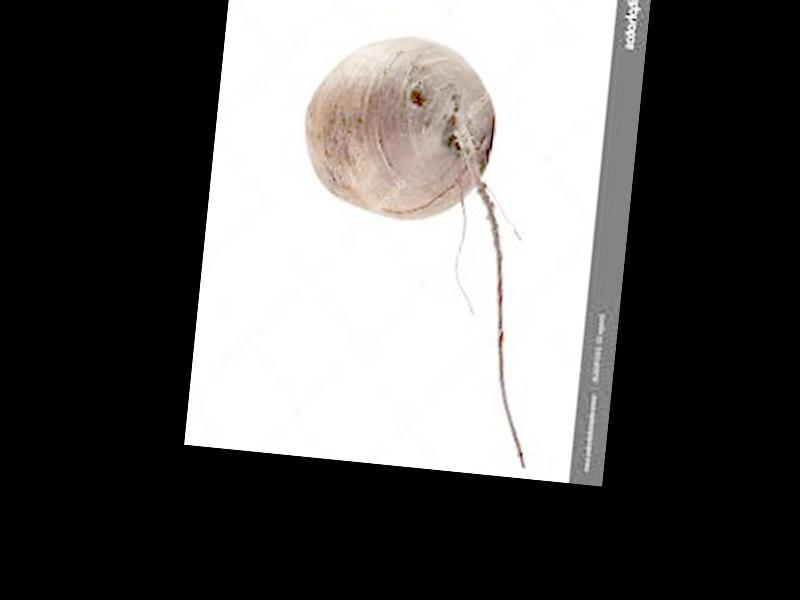Beet: (275, 29, 567, 470)
